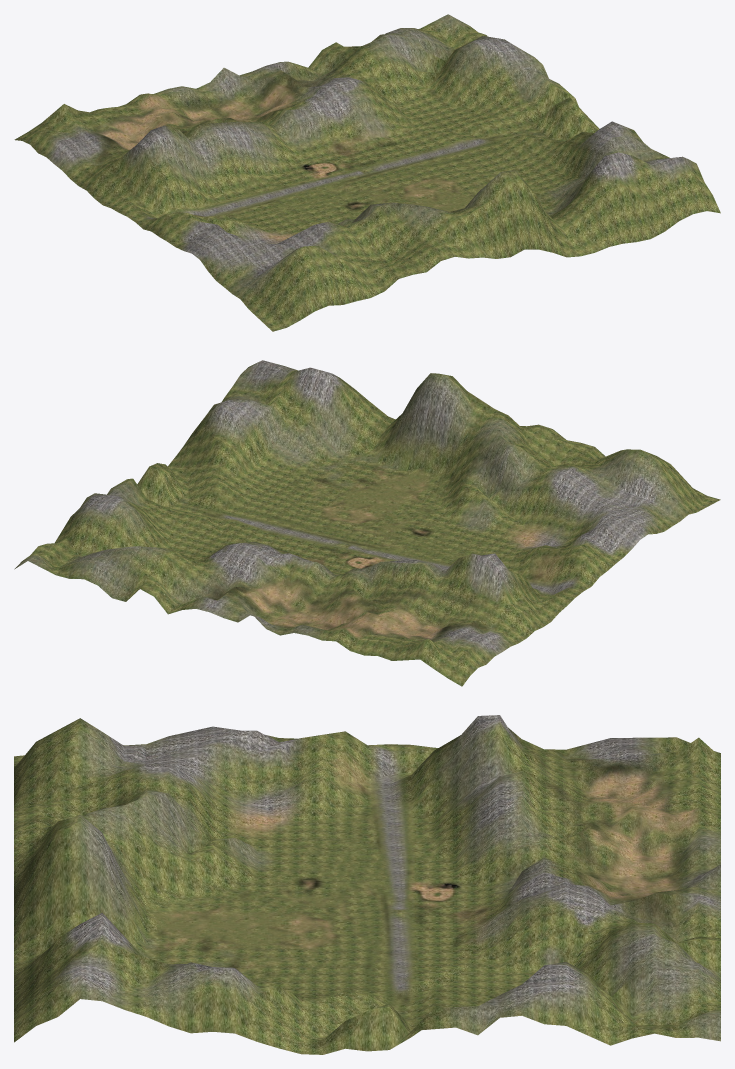
3 views of the same model, one above another, from view 1: azimuth 30°, elevation 25°; view 2: azimuth 150°, elevation 25°; view 3: azimuth 270°, elevation 25° (orthographic). The views are drawn at different scales.
Parts seen in each view (by area): view 1: Mesh; view 2: Mesh; view 3: Mesh.
Boxes of the visible parts, box(x1,y1,x2,y2) form: Mesh: box(14, 14, 720, 331); Mesh: box(14, 360, 720, 686); Mesh: box(14, 715, 720, 1054).
Bounding box in the file's own units: 1000 × 172 × 1000.
Materials: 1 (1 with a texture image).
